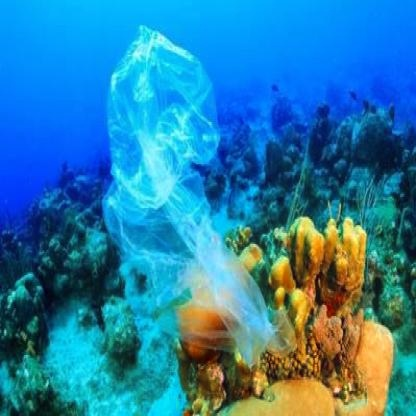pbag: (93, 14, 299, 371)
